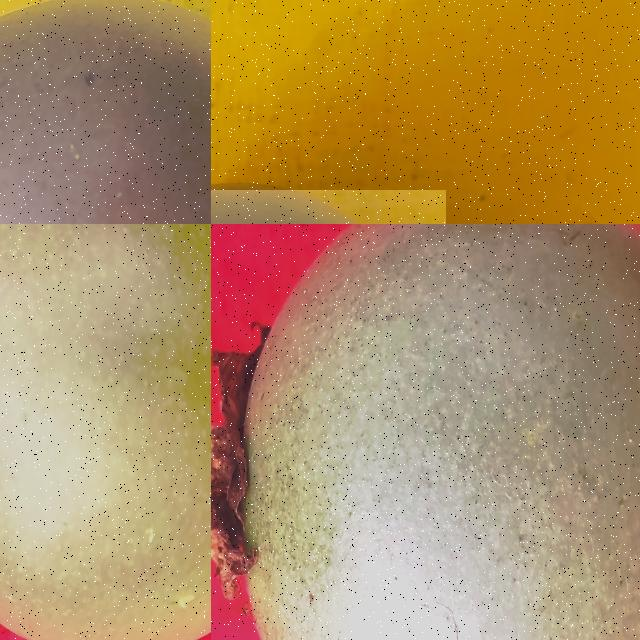Estado-1: (211, 224, 640, 640)
Estado-6: (0, 0, 211, 224)
